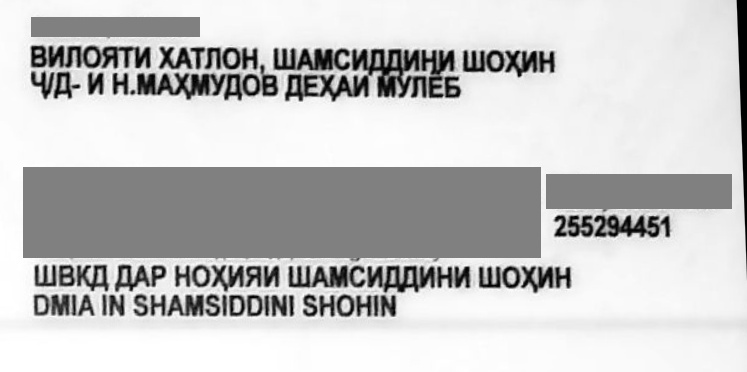1: (658, 212, 674, 240)
2: (551, 212, 571, 240), (591, 212, 611, 240)
4: (618, 212, 638, 240), (631, 212, 651, 240)
5: (565, 212, 585, 240), (578, 212, 598, 240), (644, 212, 664, 240)
9: (604, 212, 624, 240)
А: (298, 35, 318, 81), (155, 62, 175, 108), (334, 63, 354, 109), (311, 257, 331, 299), (132, 257, 150, 299), (178, 33, 194, 79)
Б: (445, 64, 461, 110)
В: (260, 63, 286, 109), (56, 257, 76, 299), (32, 31, 50, 77)
Д: (284, 63, 306, 109), (366, 36, 386, 82), (384, 36, 404, 82), (114, 257, 134, 299), (382, 257, 402, 299), (399, 257, 417, 299), (224, 63, 240, 109), (57, 62, 71, 108), (91, 257, 103, 299)
Е: (305, 63, 321, 109), (427, 64, 443, 110)
И: (435, 37, 469, 83), (135, 32, 163, 78), (86, 62, 112, 108), (260, 257, 288, 299), (450, 257, 478, 299), (46, 31, 66, 77), (402, 36, 422, 82), (416, 257, 436, 299), (349, 36, 367, 82), (522, 38, 540, 84), (226, 257, 244, 299), (365, 257, 383, 299), (354, 64, 370, 110), (536, 257, 552, 299)
К: (76, 257, 92, 299)
Л: (65, 31, 85, 77), (205, 33, 225, 79), (413, 64, 429, 110)
М: (371, 64, 395, 110), (312, 35, 332, 81), (187, 63, 207, 109), (325, 257, 345, 299), (135, 62, 153, 108)
Н: (537, 39, 563, 85), (551, 257, 579, 299), (242, 34, 260, 80), (421, 37, 439, 83), (433, 257, 451, 299), (176, 257, 192, 299), (115, 62, 127, 108)
О: (484, 38, 506, 84), (239, 63, 261, 109), (500, 257, 522, 299), (83, 31, 103, 77), (223, 34, 243, 80), (189, 257, 209, 299)
Р: (151, 257, 167, 299)
С: (347, 257, 369, 299), (334, 35, 354, 81)
Т: (120, 32, 138, 78), (192, 33, 208, 79)
У: (208, 63, 228, 109), (394, 64, 414, 110)
Х: (160, 33, 180, 79)
Ч: (33, 62, 45, 108)
Ш: (259, 34, 297, 80), (32, 257, 54, 299), (464, 37, 484, 83), (289, 257, 309, 299), (480, 257, 500, 299)
Я: (100, 32, 120, 78), (243, 257, 263, 299)
Ҳ: (503, 38, 523, 84), (210, 257, 230, 299), (175, 62, 191, 108), (319, 63, 335, 109), (523, 257, 539, 299)
